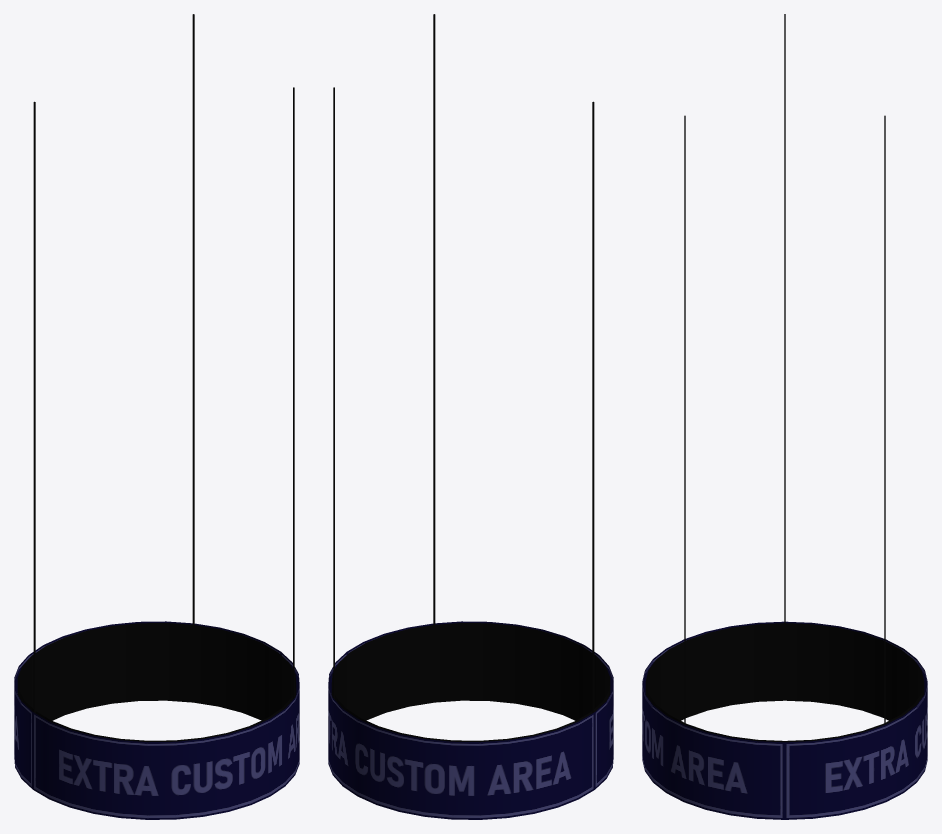
The model's file is stand_main_top_03.fbx.
The picture shows the model from 3 angles, left to right: view 1: azimuth 30°, elevation 25°; view 2: azimuth 150°, elevation 25°; view 3: azimuth 270°, elevation 25°; orthographic projection.
Parts seen in each view (by area): view 1: stand_main_top_03; view 2: stand_main_top_03; view 3: stand_main_top_03.
Part boxes in pixels (x1,y1,x2,y2): stand_main_top_03: [14, 14, 299, 819]; stand_main_top_03: [328, 14, 613, 819]; stand_main_top_03: [642, 14, 927, 819].
Bounding box in the file's own units: 400 × 1060 × 400.
